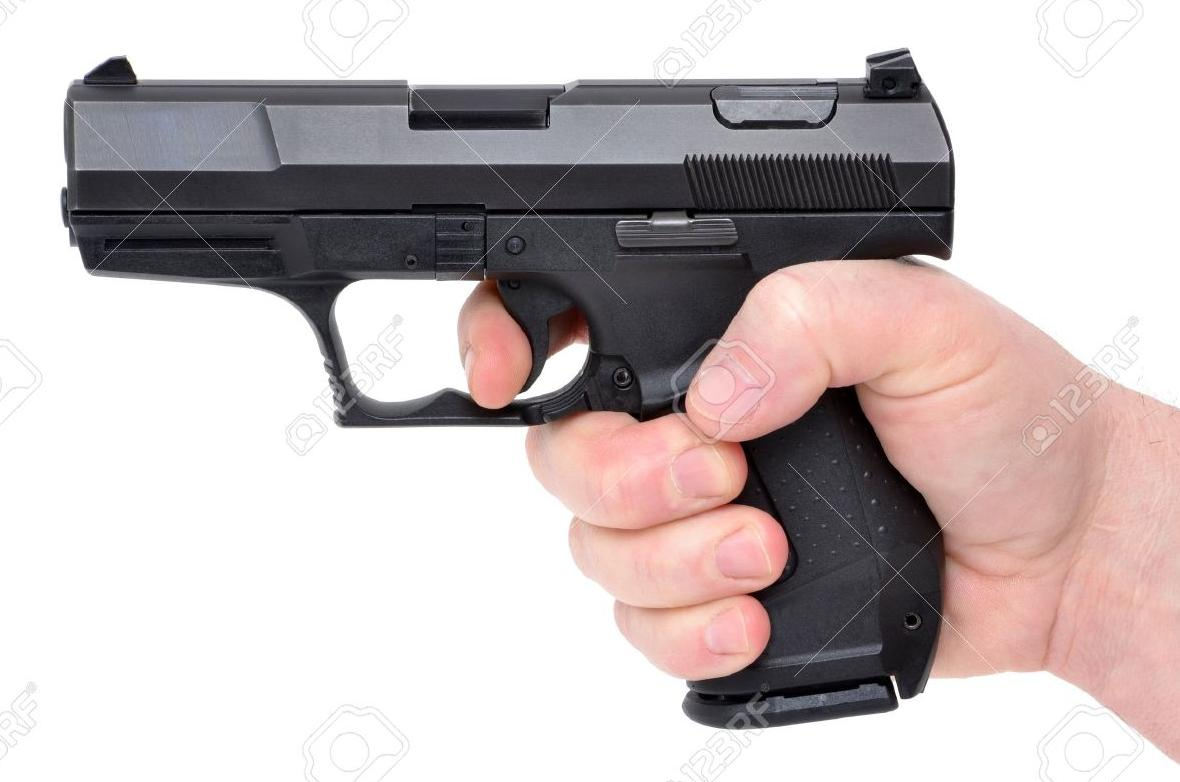gun: (1, 0, 1180, 782)
